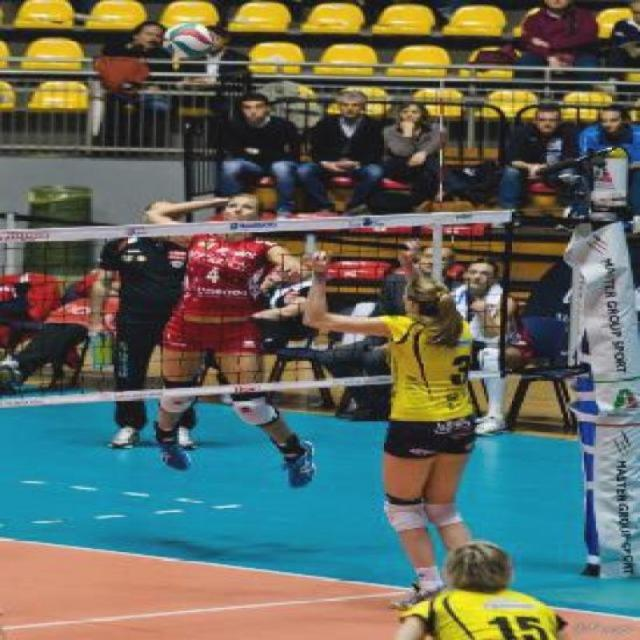volleyball: (162, 18, 222, 62)
